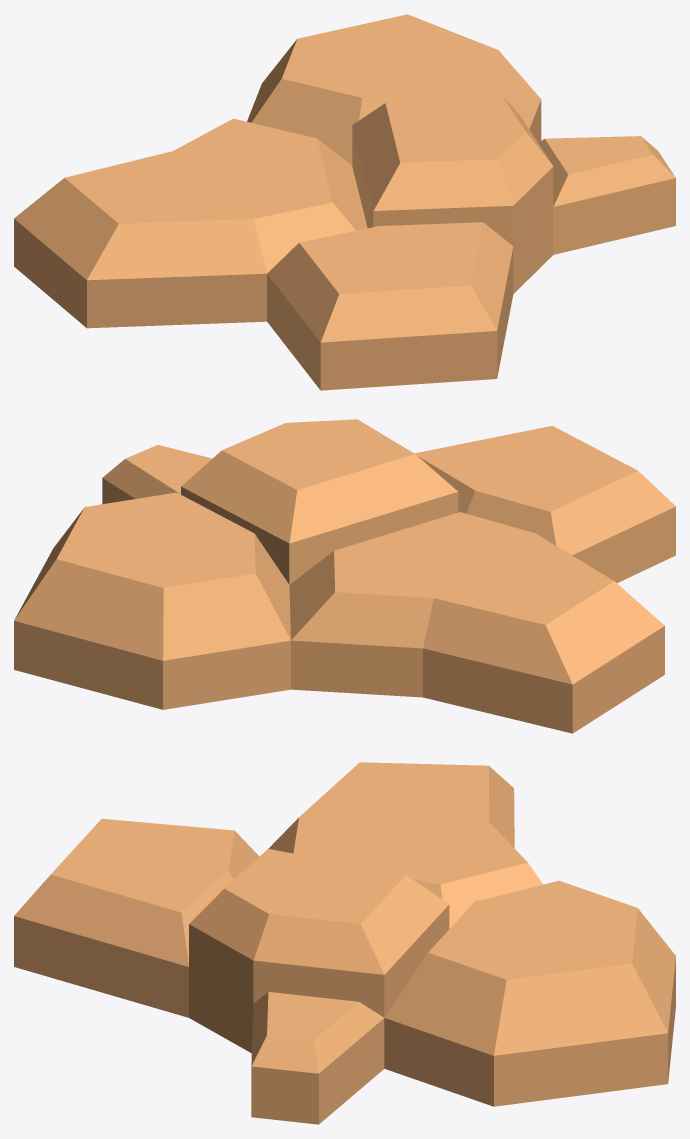
File: Rock2_R.fbx
3 renders of one model, top to bottom at view 1: azimuth 30°, elevation 25°; view 2: azimuth 150°, elevation 25°; view 3: azimuth 270°, elevation 25°, orthographic. The views are drawn at different scales.
Parts seen in each view (by area): view 1: Rock2_R; view 2: Rock2_R; view 3: Rock2_R.
Part boxes in pixels (box(x1,y1,x2,y2)): Rock2_R: box(14, 14, 675, 390); Rock2_R: box(14, 419, 675, 733); Rock2_R: box(14, 762, 675, 1124).
Size of the model in its own units: 150 by 31.4 by 145.
